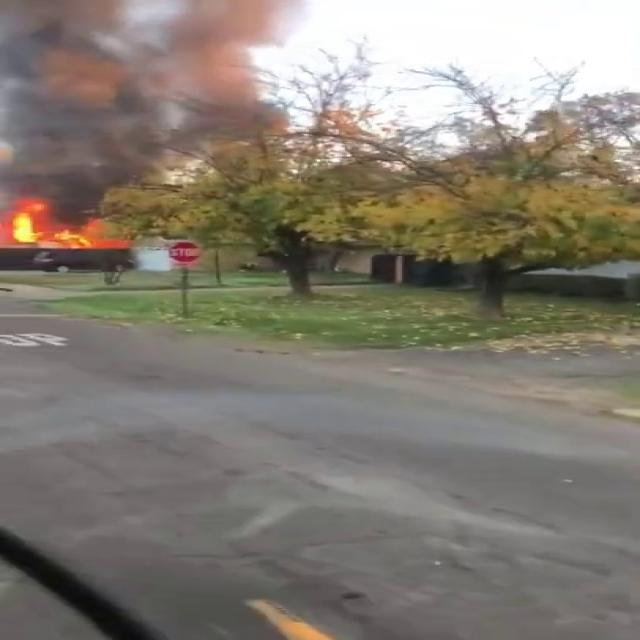Fire: (0, 200, 106, 252)
Smoke: (0, 0, 347, 204)
